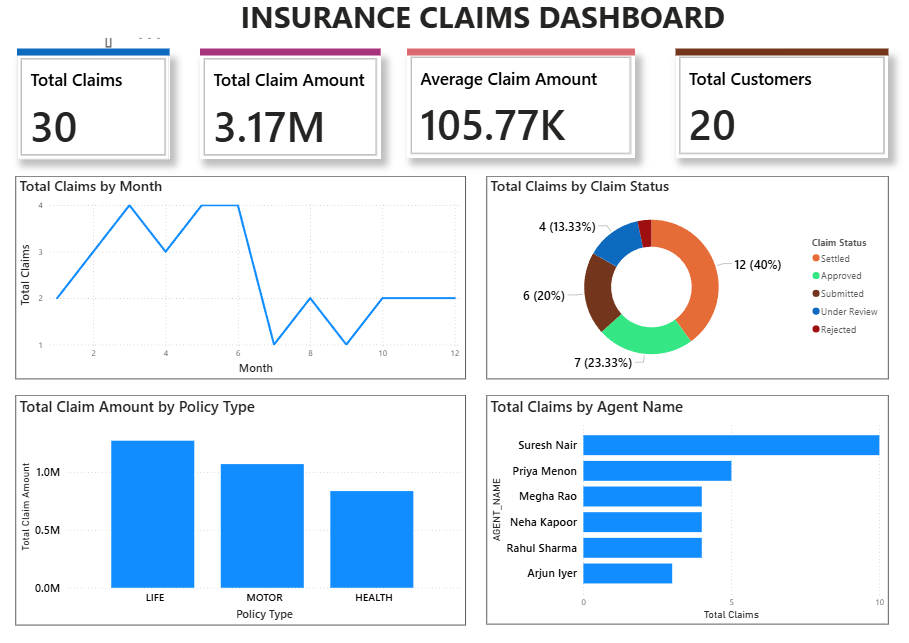

Layout of this report page (visuals, bound fields, positions):
{"tool":"powerbi","page":{"name":"Page 1","canvas":[1350,950],"ordinal":0},"visuals":[{"type":"cardVisual","fields":{"Data":["FACT_CLAIM.Total Claims"]},"box":[33.2,88,217.4,149.4],"z":0},{"type":"textbox","box":[33.2,79.7,217.4,8.3],"z":1},{"type":"cardVisual","fields":{"Data":["FACT_CLAIM.Total Claim Amount"]},"box":[295.4,88,257.3,149.4],"z":2},{"type":"textbox","box":[295.4,79.7,257.3,6.6],"z":3},{"type":"cardVisual","fields":{"Data":["DIM_POLICY.Total Customers"]},"box":[972.1,85.5,303.4,149.6],"z":4},{"type":"textbox","box":[589.7,79,324.7,8.5],"z":5},{"type":"lineChart","title":"Total Claims by Month","fields":{"Y":["FACT_CLAIM.Total Claims"],"Category":["DIM_DATE.MONTH"]},"box":[32.4,261.1,641.6,289.4],"z":6},{"type":"donutChart","title":"Total Claims by Claim Status","fields":{"Category":["FACT_CLAIM.CLAIM_STATUS"],"Y":["FACT_CLAIM.Total Claims"]},"box":[702.3,261.1,572.8,289.4],"z":7},{"type":"clusteredColumnChart","title":"Total Claim Amount by Policy Type","fields":{"Category":["DIM_POLICY.POLICY_TYPE"],"Y":["FACT_CLAIM.Total Claim Amount"]},"box":[32.4,572.8,641.6,327.9],"z":8},{"type":"barChart","title":"Total Claims by Agent Name","fields":{"Category":["DIM_AGENT.AGENT_NAME"],"Y":["FACT_CLAIM.Total Claims"]},"box":[702.9,572.6,572.6,326.9],"z":9},{"type":"cardVisual","fields":{"Data":["FACT_CLAIM.Average Claim Amount"]},"box":[589.7,85.5,324.7,149.6],"z":10},{"type":"textbox","box":[972.1,79,303.4,8.5],"z":11},{"type":"textbox","box":[53.4,0,1296.8,64.1],"z":12}]}

Visuals, with their boxes in screenshot pixels (x1, y1, x2, y2), scaled from the page's 1350x950 canvas onto the 909x643 screenshot:
cardVisual - FACT_CLAIM.Total Claims: bbox(22, 60, 169, 161)
textbox: bbox(22, 54, 169, 60)
cardVisual - FACT_CLAIM.Total Claim Amount: bbox(199, 60, 372, 161)
textbox: bbox(199, 54, 372, 58)
cardVisual - DIM_POLICY.Total Customers: bbox(655, 58, 859, 159)
textbox: bbox(397, 53, 616, 59)
"Total Claims by Month" lineChart: bbox(22, 177, 454, 373)
"Total Claims by Claim Status" donutChart: bbox(473, 177, 859, 373)
"Total Claim Amount by Policy Type" clusteredColumnChart: bbox(22, 388, 454, 610)
"Total Claims by Agent Name" barChart: bbox(473, 388, 859, 609)
cardVisual - FACT_CLAIM.Average Claim Amount: bbox(397, 58, 616, 159)
textbox: bbox(655, 53, 859, 59)
textbox: bbox(36, 0, 908, 43)
